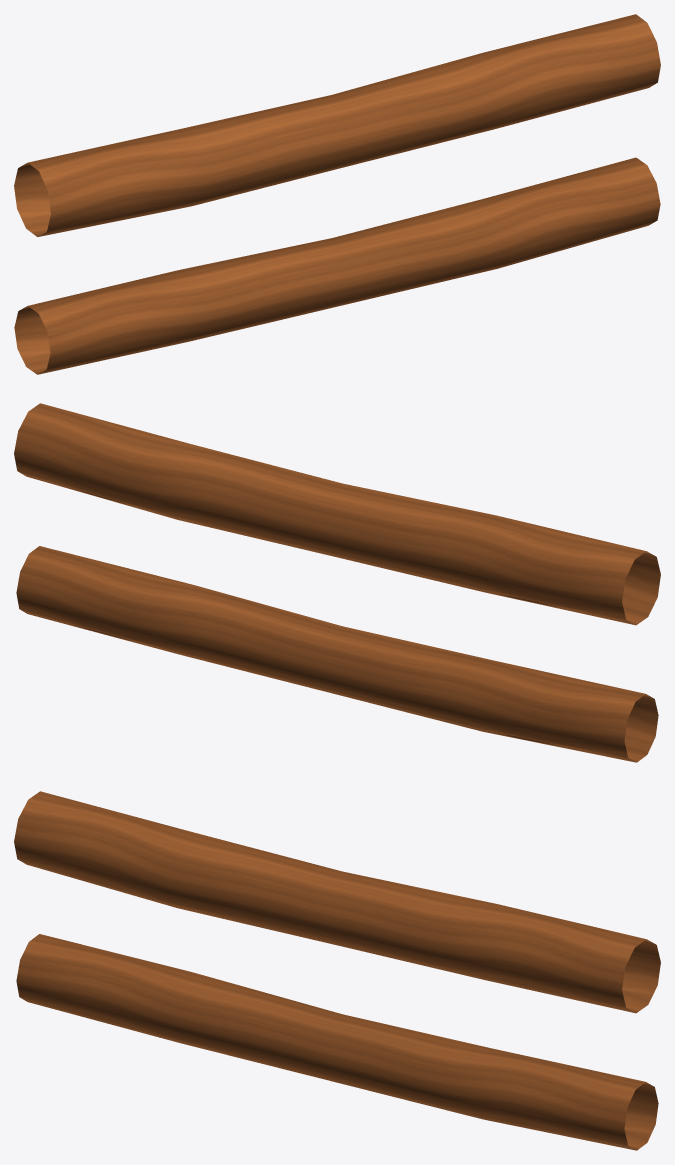
File: fence-rail.glb
3 renders of one model, top to bottom at view 1: azimuth 30°, elevation 25°; view 2: azimuth 150°, elevation 25°; view 3: azimuth 330°, elevation 25°, orthographic.
Visible parts, largest first — view 1: fence-rail; view 2: fence-rail; view 3: fence-rail.
Boxes of the visible parts, left/top/right/bottom form: fence-rail: left=14, top=14, right=660, bottom=374; fence-rail: left=14, top=403, right=660, bottom=762; fence-rail: left=14, top=791, right=660, bottom=1150.
Size of the model in its own units: 1 by 0.327 by 0.1198.
1 material, 1 textured.
